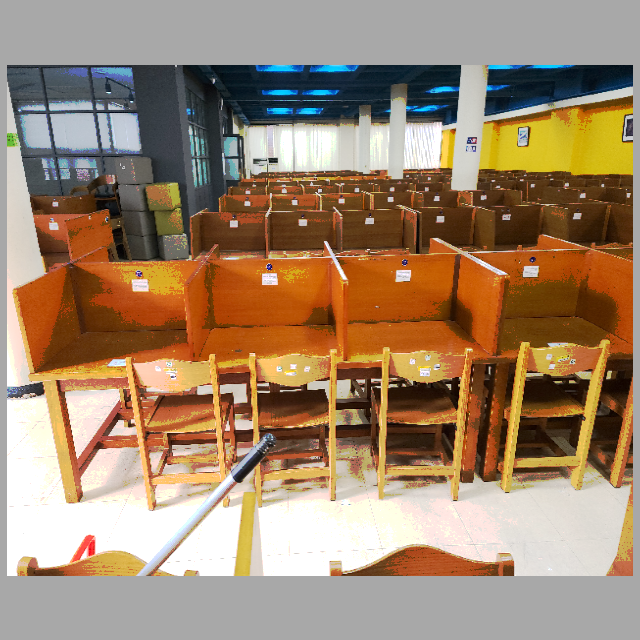empty: (15, 274, 190, 427), (196, 265, 347, 434), (352, 265, 500, 435)
